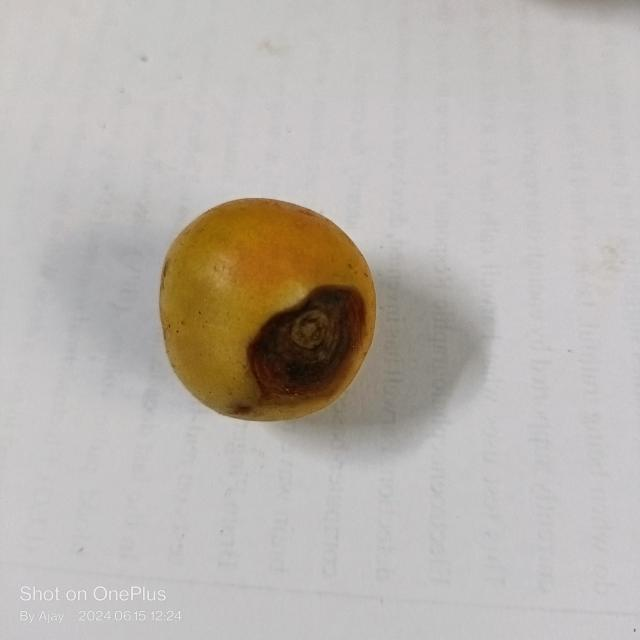Anthrocnose: (242, 284, 371, 411)
